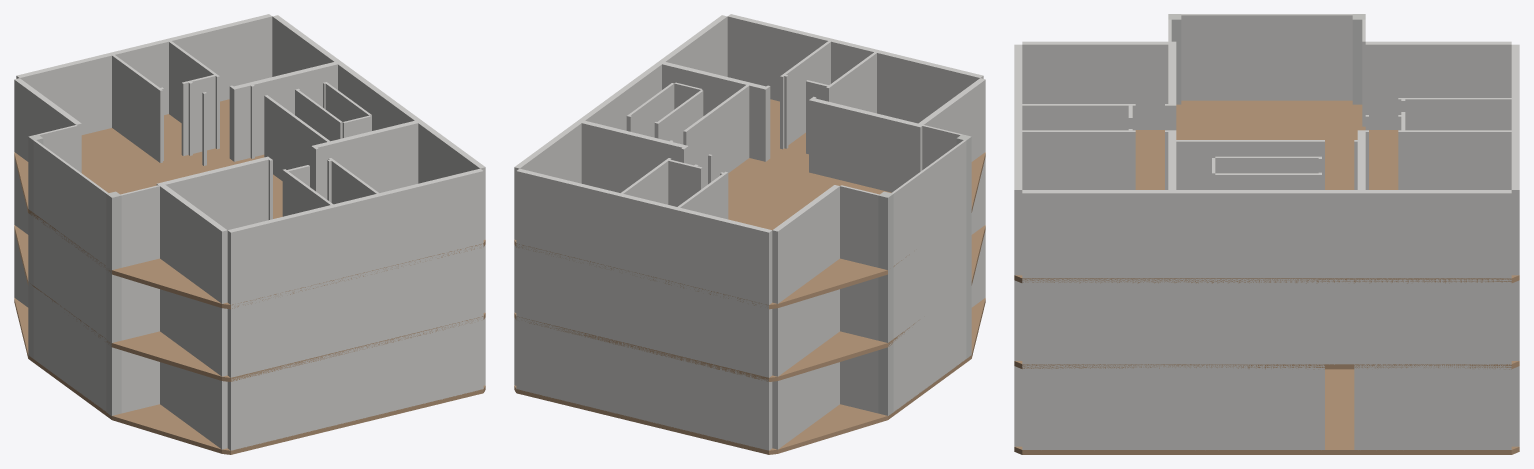
Rendered from house.glb.
3 renders of one model, left to right at view 1: azimuth 30°, elevation 25°; view 2: azimuth 150°, elevation 25°; view 3: azimuth 270°, elevation 25°, orthographic. The views are drawn at different scales.
Parts seen in each view (by area): view 1: F3_Walls, F2_Walls, F1_Walls, F3_Slab, F1_Slab, F2_Slab, F3_Columns, F1_Columns, F2_Columns; view 2: F3_Walls, F2_Walls, F1_Walls, F3_Slab, F1_Slab, F2_Slab, F3_Columns, F2_Columns, F1_Columns; view 3: F3_Walls, F2_Walls, F1_Walls, F3_Slab, F1_Slab, F2_Slab, F3_Columns.
Boxes of the visible parts, box(x1,y1,x2,y2) form: F3_Walls: box(14, 14, 485, 305); F2_Walls: box(14, 157, 485, 377); F1_Walls: box(14, 230, 485, 450); F3_Slab: box(14, 99, 485, 309); F1_Slab: box(14, 298, 485, 454); F2_Slab: box(14, 225, 485, 381); F3_Columns: box(28, 134, 121, 269); F1_Columns: box(28, 282, 121, 415); F2_Columns: box(28, 213, 121, 343); F3_Walls: box(514, 14, 985, 305); F2_Walls: box(514, 157, 985, 377); F1_Walls: box(514, 230, 985, 450); F3_Slab: box(514, 99, 985, 309); F1_Slab: box(514, 298, 985, 454); F2_Slab: box(514, 225, 985, 381); F3_Columns: box(878, 134, 971, 270); F2_Columns: box(878, 210, 971, 342); F1_Columns: box(878, 282, 971, 415); F3_Walls: box(1014, 14, 1519, 278); F2_Walls: box(1014, 279, 1519, 364); F1_Walls: box(1014, 364, 1519, 449); F3_Slab: box(1014, 100, 1519, 283); F1_Slab: box(1014, 369, 1519, 454); F2_Slab: box(1014, 361, 1519, 369); F3_Columns: box(1168, 14, 1365, 104).
Size of the model in its own units: 12.99 by 8.85 by 15.48.
